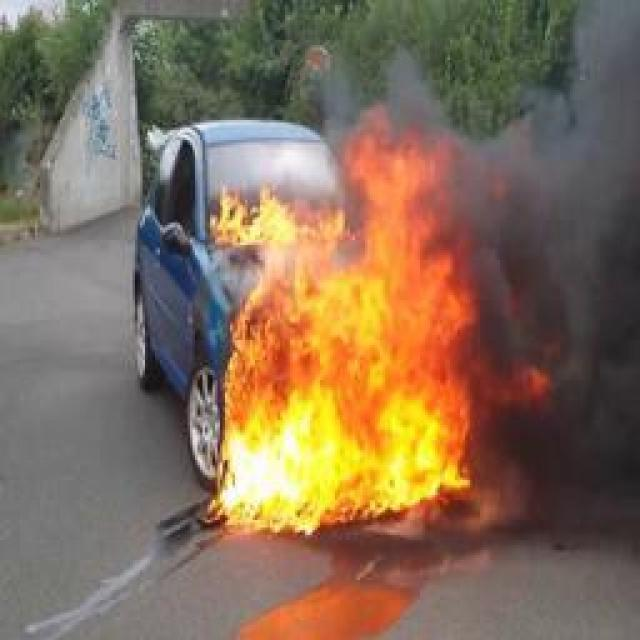Fire: (208, 119, 476, 534)
